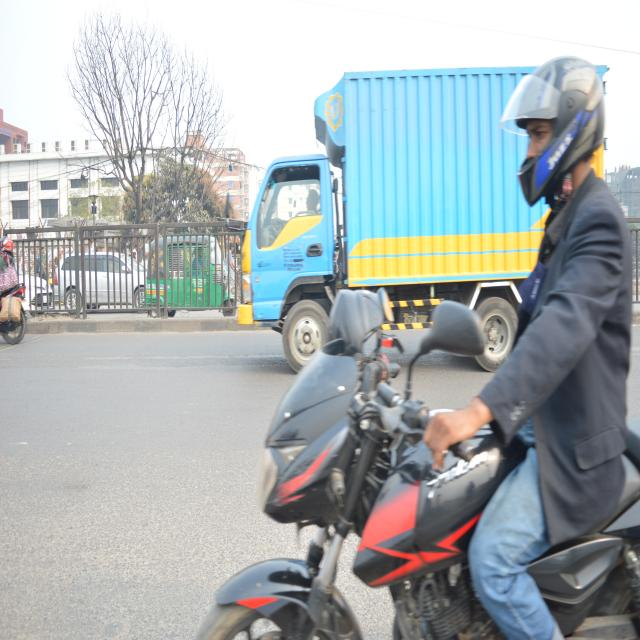microbus: (54, 245, 148, 324)
motorbike: (201, 329, 640, 640)
truck: (238, 50, 620, 352)
